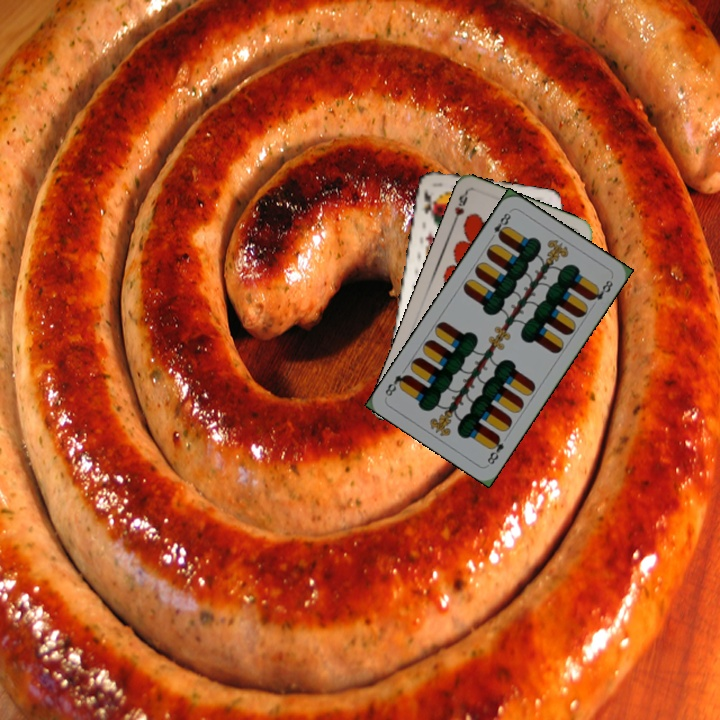E8: (486, 209, 514, 243), (483, 432, 506, 467)
H9: (448, 188, 470, 228)
SK: (419, 185, 437, 219)
